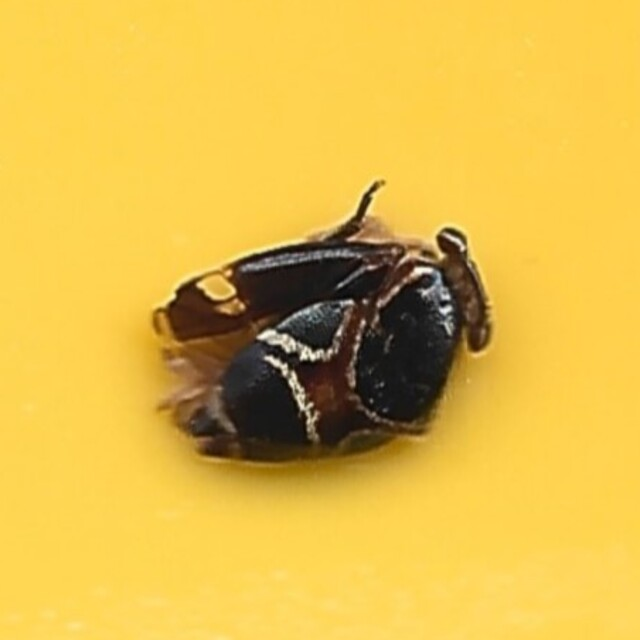Hemiptera: (142, 172, 498, 468)
